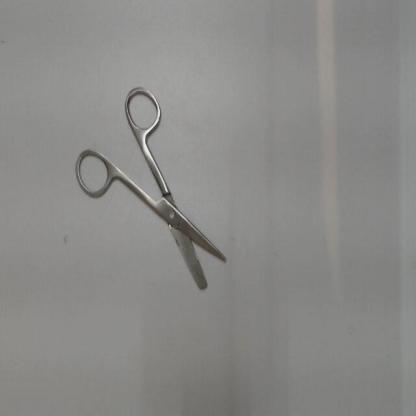Dressing Scissors: (68, 76, 240, 309)
